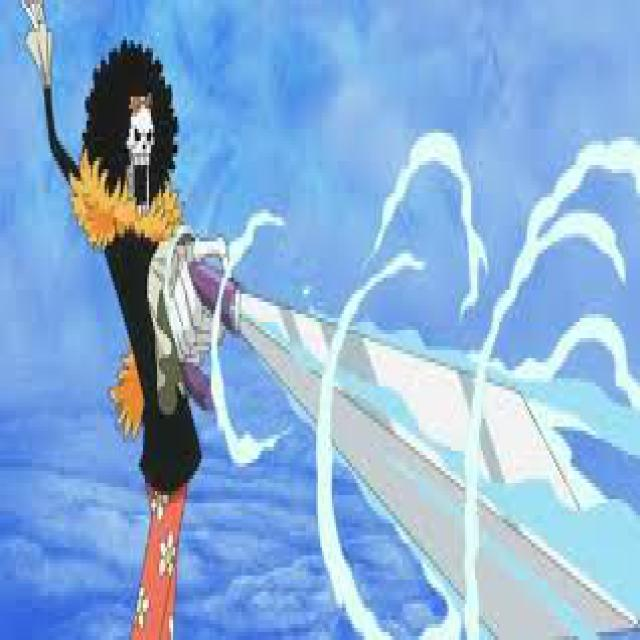Brook: (20, 0, 211, 640)
